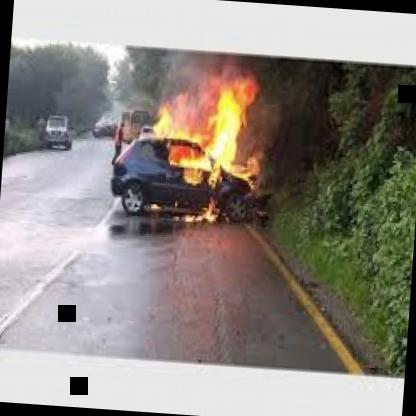fire: (104, 61, 270, 226)
